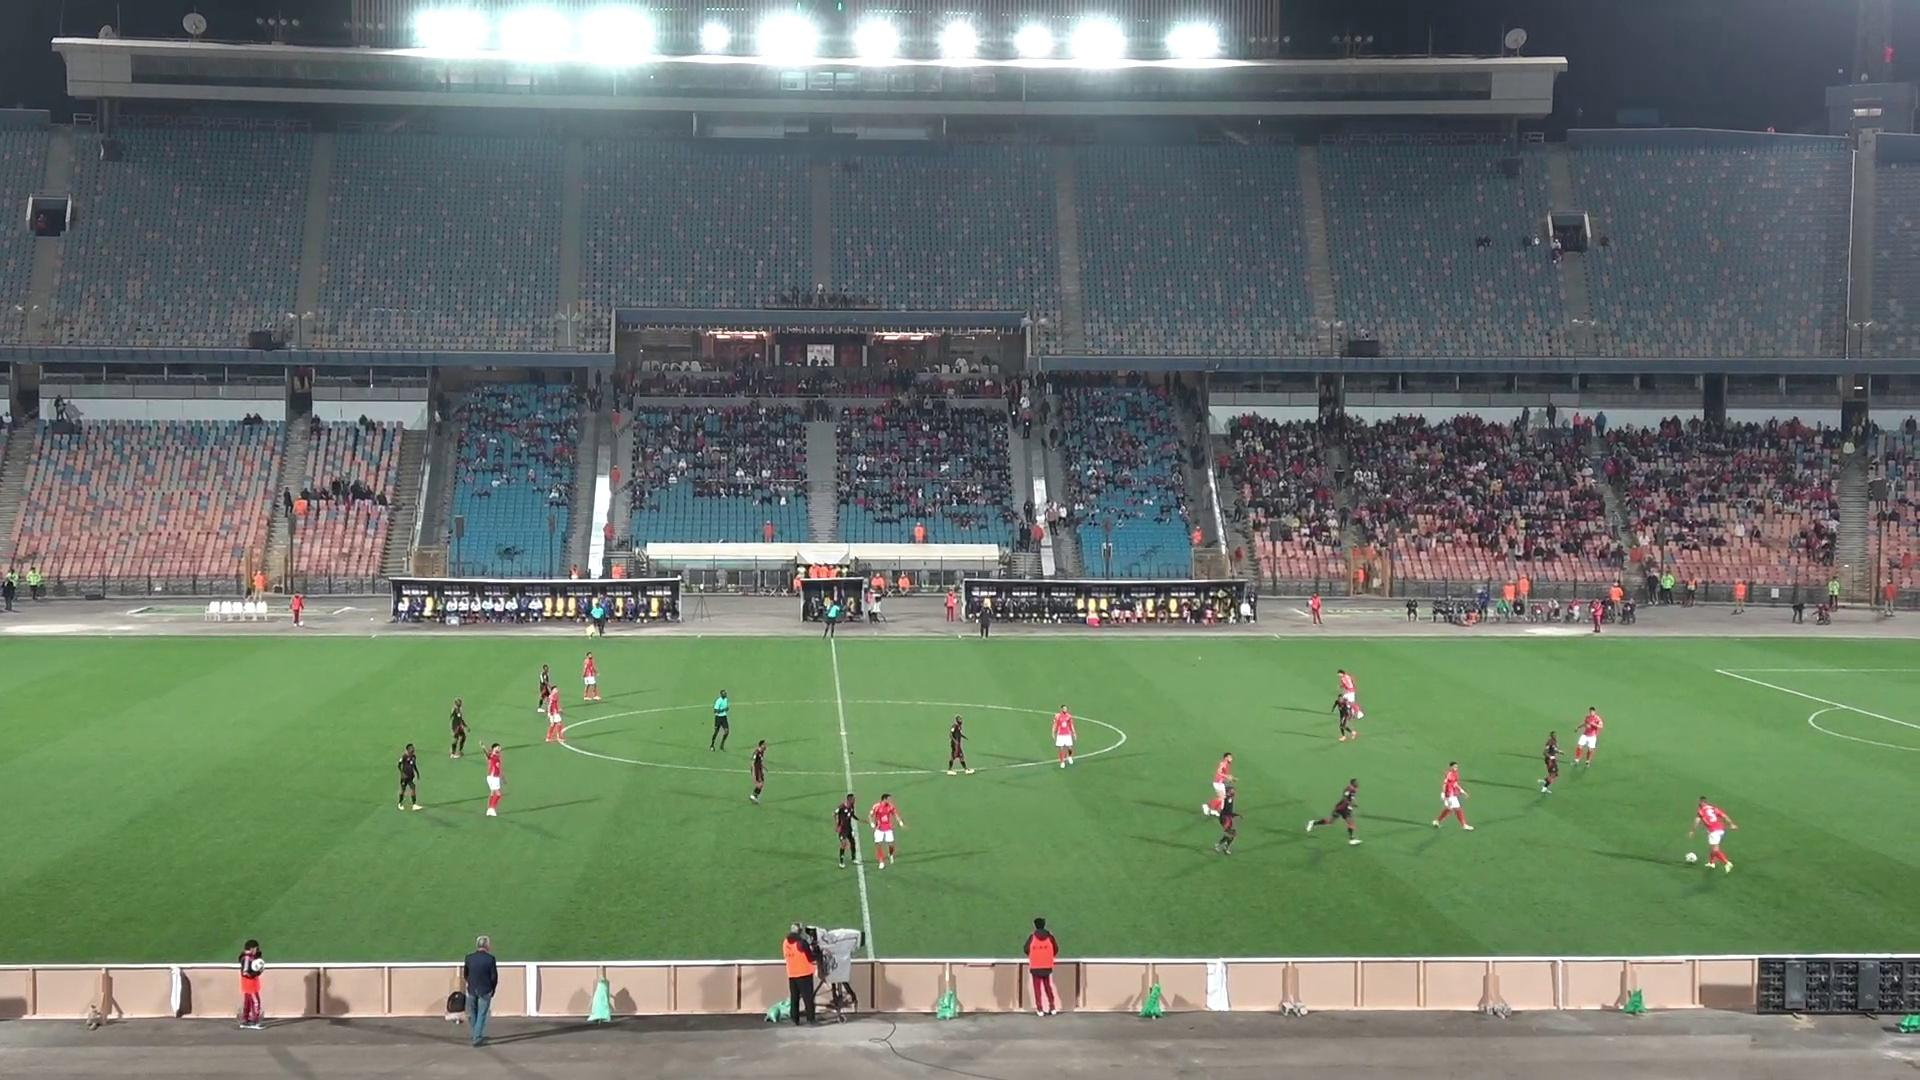Ball: (1684, 843, 1702, 866)
Refree: (707, 688, 731, 750), (582, 591, 611, 636), (822, 597, 851, 640)
Team1: (1684, 796, 1735, 872), (1431, 762, 1473, 829), (868, 794, 905, 869), (1201, 752, 1237, 814), (1572, 705, 1604, 766), (1048, 705, 1079, 767), (535, 684, 567, 742), (483, 742, 506, 818), (1335, 669, 1364, 719), (582, 651, 603, 702)
Team2: (1305, 778, 1360, 845), (1203, 789, 1241, 853), (832, 793, 862, 866), (396, 744, 423, 810), (1331, 690, 1364, 741), (945, 715, 975, 771), (1538, 731, 1563, 793), (447, 698, 469, 758), (748, 740, 767, 803), (533, 665, 556, 709)
